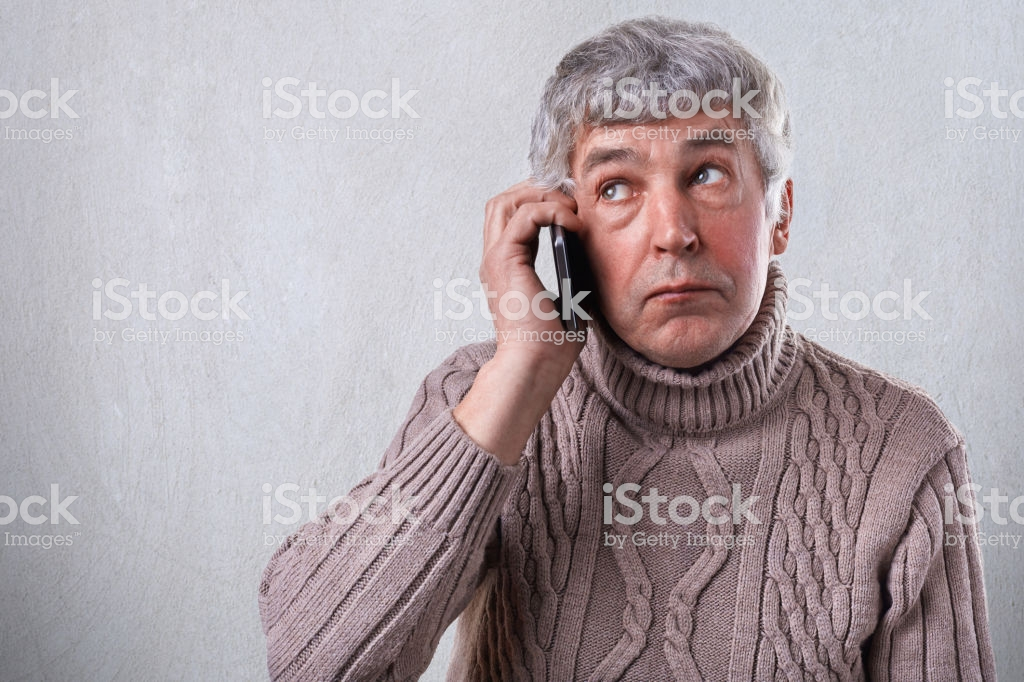phone: (541, 177, 580, 337)
talk: (477, 126, 760, 383)
